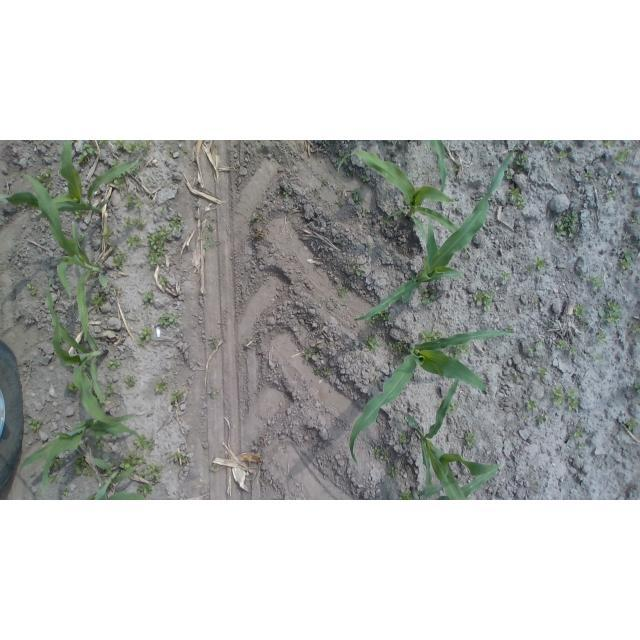Maize: (352, 151, 516, 319), (348, 332, 511, 465), (23, 173, 108, 344), (47, 286, 138, 426), (1, 140, 140, 224), (406, 380, 502, 500), (338, 148, 463, 237), (19, 416, 147, 493), (409, 469, 494, 500), (87, 457, 146, 500), (422, 140, 447, 194)
Weeds: (148, 224, 171, 268), (138, 463, 163, 497), (120, 451, 147, 476), (599, 301, 624, 328), (557, 212, 579, 239), (73, 451, 94, 478), (134, 431, 154, 457), (77, 144, 100, 164), (473, 291, 493, 313), (448, 340, 469, 360), (367, 309, 390, 327), (156, 312, 181, 328), (508, 187, 526, 209), (37, 168, 54, 189), (364, 333, 381, 353), (582, 274, 603, 290), (388, 341, 410, 356), (112, 251, 129, 270), (420, 288, 437, 307), (125, 140, 149, 153), (125, 192, 144, 208), (139, 326, 153, 347), (614, 148, 632, 164), (568, 388, 581, 410), (124, 217, 145, 230), (420, 331, 441, 344), (90, 292, 107, 308), (513, 155, 528, 173), (551, 387, 563, 409), (170, 216, 185, 233), (168, 452, 188, 464), (126, 234, 143, 248), (621, 249, 632, 270), (199, 235, 213, 251), (92, 435, 104, 453), (374, 446, 389, 460), (622, 418, 638, 431), (27, 418, 43, 430), (154, 379, 167, 393), (532, 257, 545, 271), (314, 366, 332, 376), (352, 264, 366, 276), (170, 391, 184, 403), (464, 433, 476, 447), (115, 173, 126, 188), (143, 291, 153, 307), (574, 302, 584, 318), (536, 368, 549, 380), (352, 188, 361, 205), (67, 382, 78, 395), (124, 376, 136, 387), (109, 356, 120, 368), (27, 283, 38, 295), (556, 151, 568, 162), (536, 140, 558, 146), (500, 271, 511, 283), (338, 285, 348, 298), (399, 432, 409, 445), (598, 332, 608, 345), (75, 210, 89, 219), (399, 492, 413, 501), (574, 428, 585, 439), (104, 384, 114, 396), (447, 400, 457, 412), (319, 180, 329, 192), (104, 228, 113, 241), (209, 335, 217, 349), (557, 339, 568, 349), (527, 400, 538, 410), (98, 397, 110, 406), (159, 276, 167, 289), (108, 461, 115, 475), (252, 213, 264, 221), (53, 459, 65, 467), (305, 348, 312, 361), (584, 171, 593, 181), (605, 140, 615, 149), (504, 325, 514, 334), (115, 140, 126, 148), (537, 417, 545, 428), (112, 160, 121, 169), (632, 324, 640, 334), (508, 373, 516, 383), (48, 475, 56, 484), (388, 468, 396, 477), (569, 346, 578, 354), (529, 347, 538, 355), (78, 236, 88, 243), (593, 356, 603, 363), (85, 361, 91, 372), (61, 488, 69, 496), (505, 171, 513, 179), (336, 201, 345, 208), (630, 217, 638, 224), (524, 267, 532, 274), (344, 171, 353, 177), (130, 168, 137, 175), (608, 192, 615, 199), (409, 274, 416, 281), (536, 339, 544, 345), (284, 189, 289, 198), (362, 207, 369, 213), (212, 464, 219, 470), (533, 299, 539, 306), (521, 413, 527, 420), (578, 443, 585, 449), (425, 142, 432, 148), (452, 165, 459, 171), (98, 141, 106, 146), (207, 223, 213, 229), (339, 150, 345, 156), (362, 175, 367, 181), (635, 383, 640, 389), (181, 145, 186, 151), (16, 204, 22, 208)
